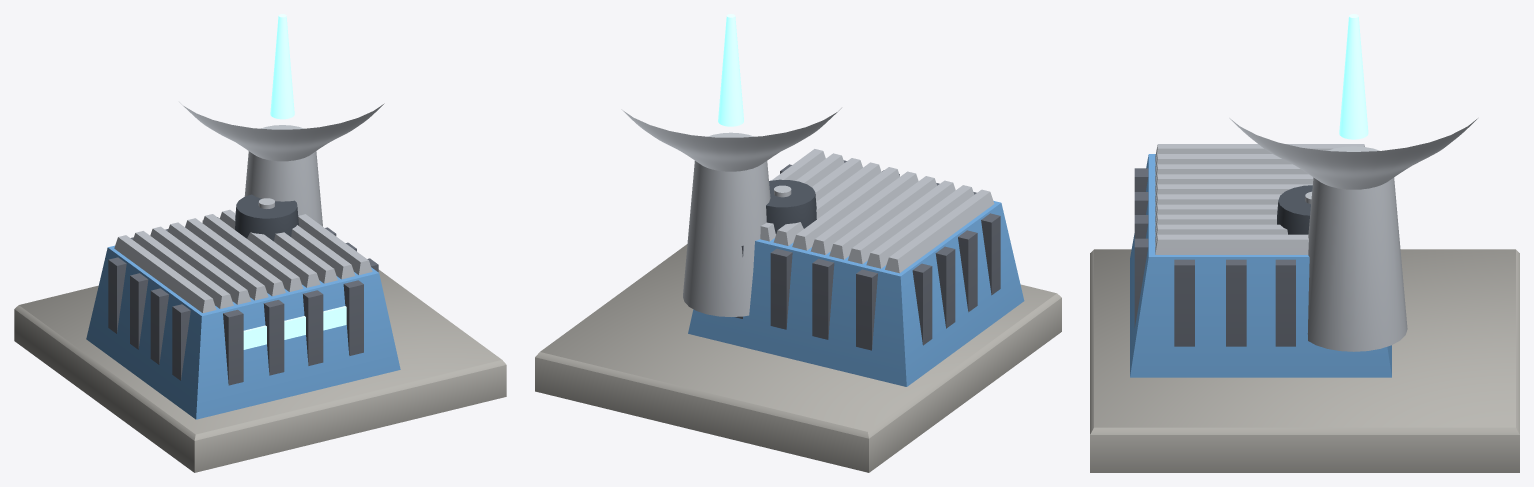
File: gaspysat.glb
3 views of the same model, side by side, from view 1: azimuth 30°, elevation 25°; view 2: azimuth 150°, elevation 25°; view 3: azimuth 270°, elevation 25° (orthographic). The views are drawn at different scales.
Visible parts, largest first — view 1: Hull; view 2: Hull; view 3: Hull.
Part boxes in pixels (bbox=[...]): Hull: bbox=[14, 14, 506, 472]; Hull: bbox=[535, 14, 1061, 472]; Hull: bbox=[1090, 14, 1519, 472].
Size of the model in its own units: 1.67 by 1.68 by 1.67.
